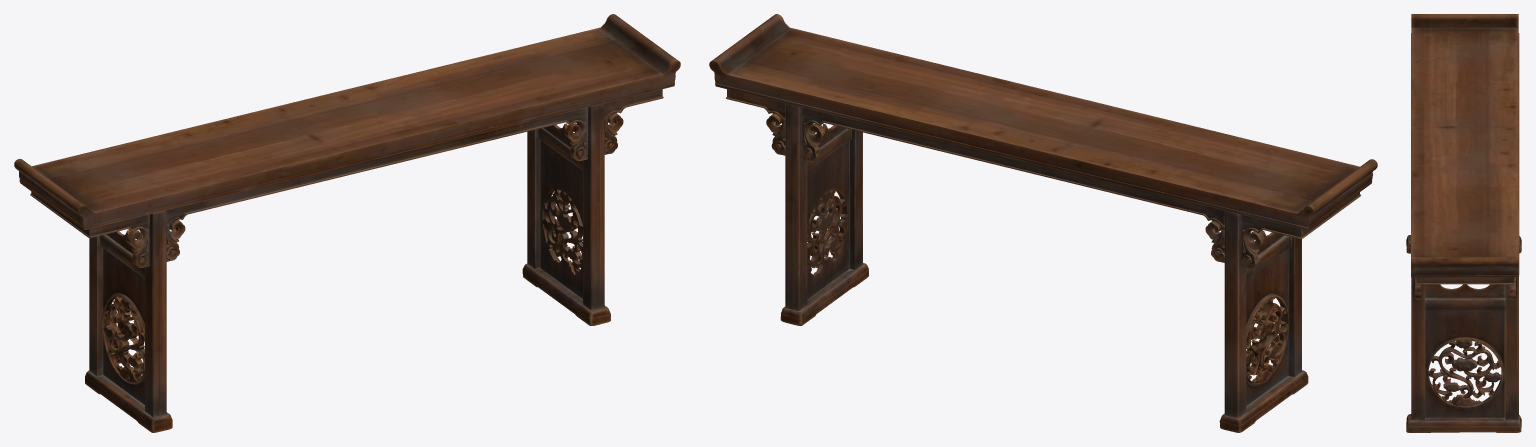
The model's file is ph-chinese_console_table.glb.
The picture shows the model from 3 angles, left to right: view 1: azimuth 30°, elevation 25°; view 2: azimuth 150°, elevation 25°; view 3: azimuth 270°, elevation 25°; orthographic projection. The views are drawn at different scales.
Parts seen in each view (by area): view 1: chinese_console_table; view 2: chinese_console_table; view 3: chinese_console_table.
Boxes of the visible parts, left/top/right/bottom form: chinese_console_table: left=14, top=14, right=680, bottom=432; chinese_console_table: left=709, top=14, right=1377, bottom=432; chinese_console_table: left=1406, top=14, right=1521, bottom=432.
Bounding box in the file's own units: 1 × 0.3842 × 0.197.
Materials: 1 (1 with a texture image).
